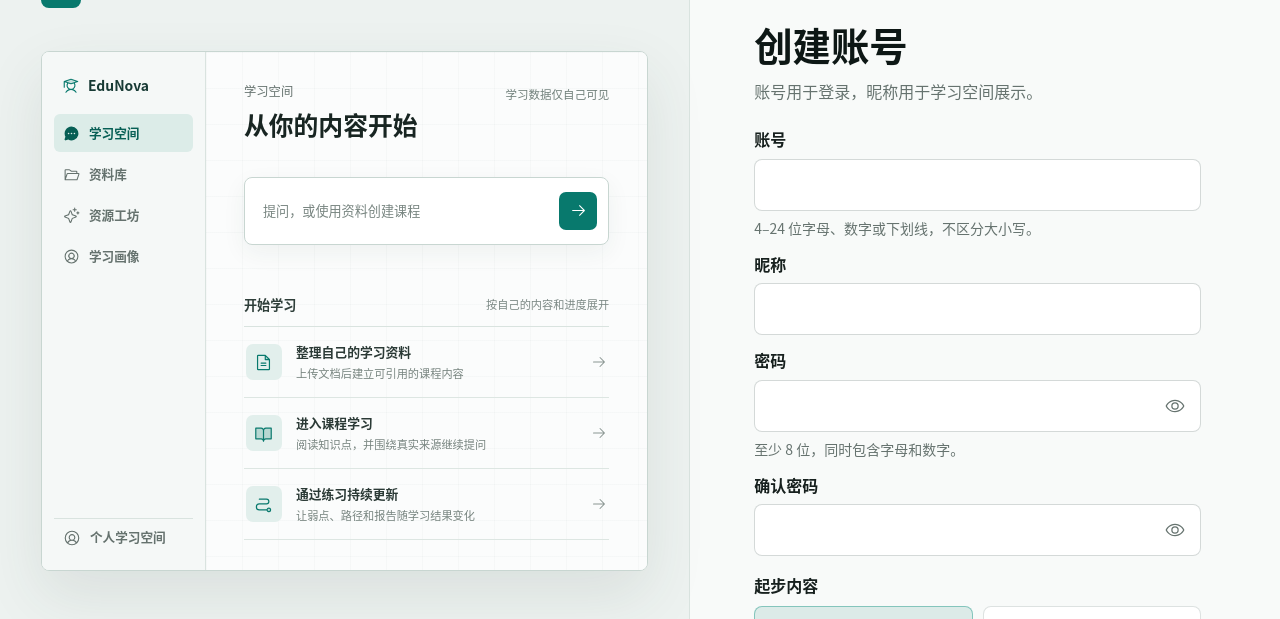
it: auth entry pages › returns to login when account creation succeeds but automatic login fails
Type "Created_01" into the field labelled "账号".
click(978, 185); type("Created_01")  # box [754,159,1201,211]
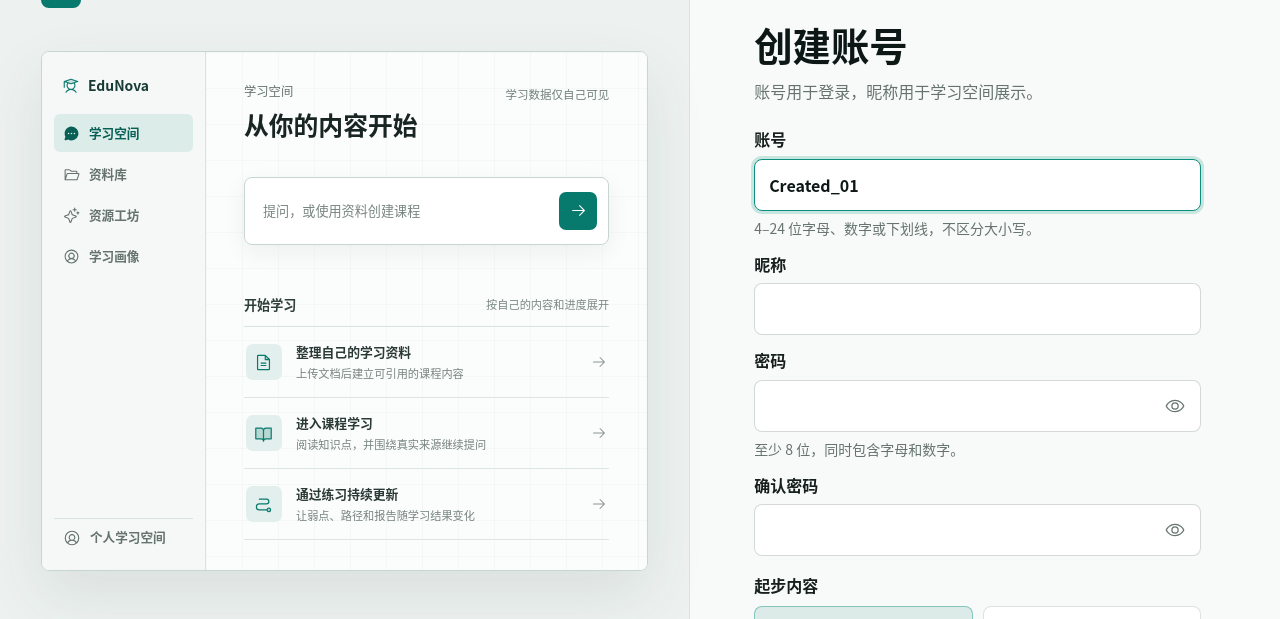
Type "已创建学生" into the field labelled "昵称".
click(978, 309); type("已创建学生")  # box [754,283,1201,335]
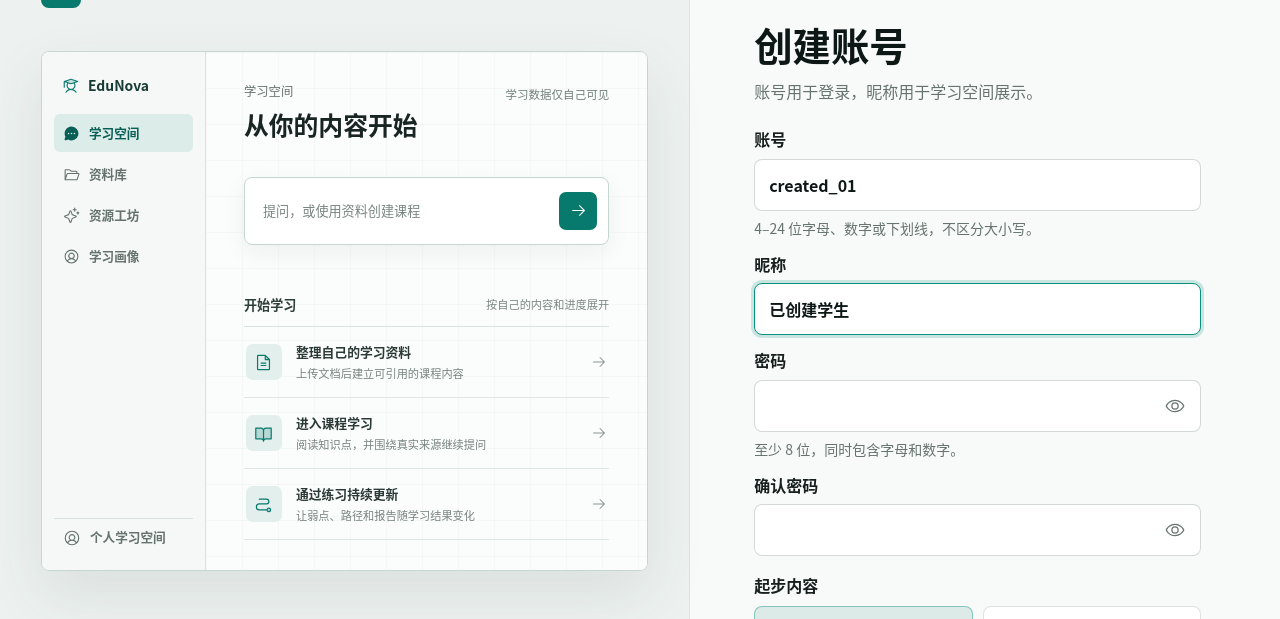
Type "Password123" into the password field labelled "密码".
click(978, 406); type("Password123")  # box [754,380,1201,432]
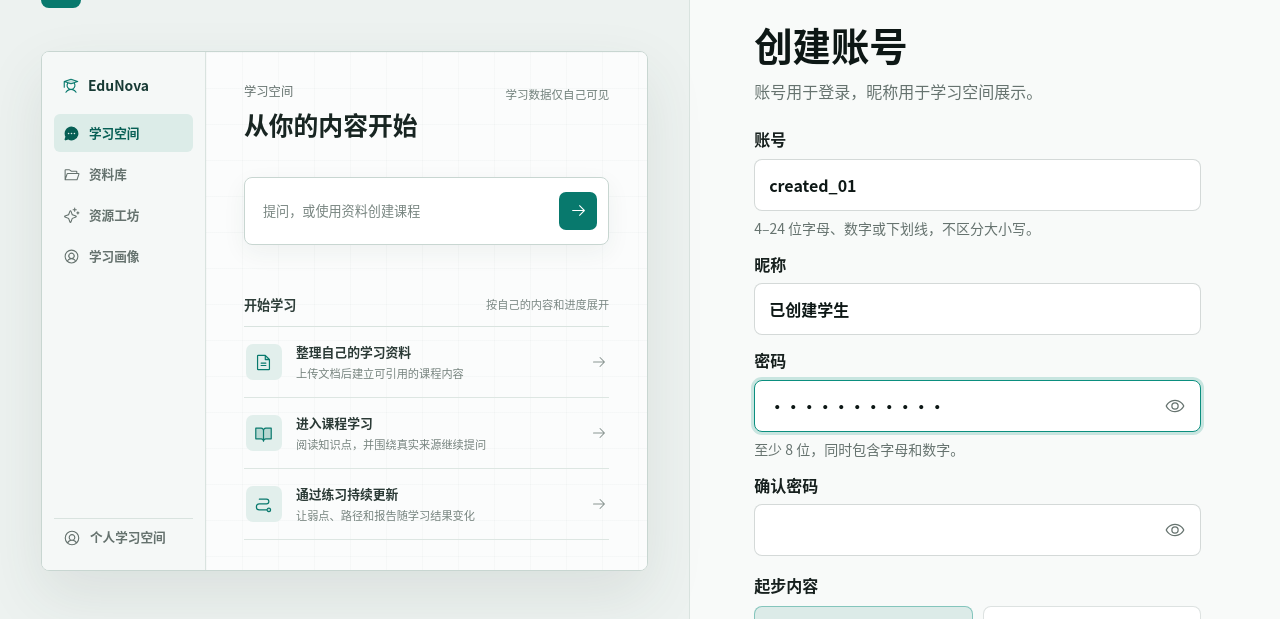
Type "Password123" into the password field labelled "确认密码".
click(978, 530); type("Password123")  # box [754,504,1201,556]
(page scrolled)
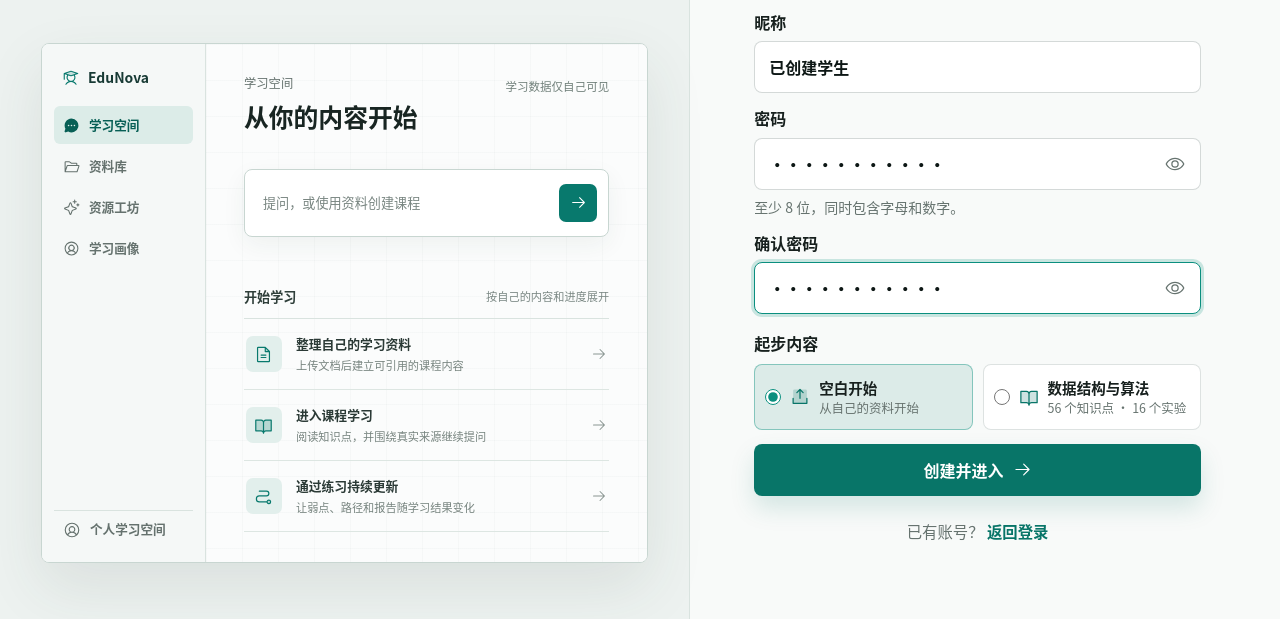
Click the button "创建并进入".
click(978, 470)  # box [754,444,1201,496]
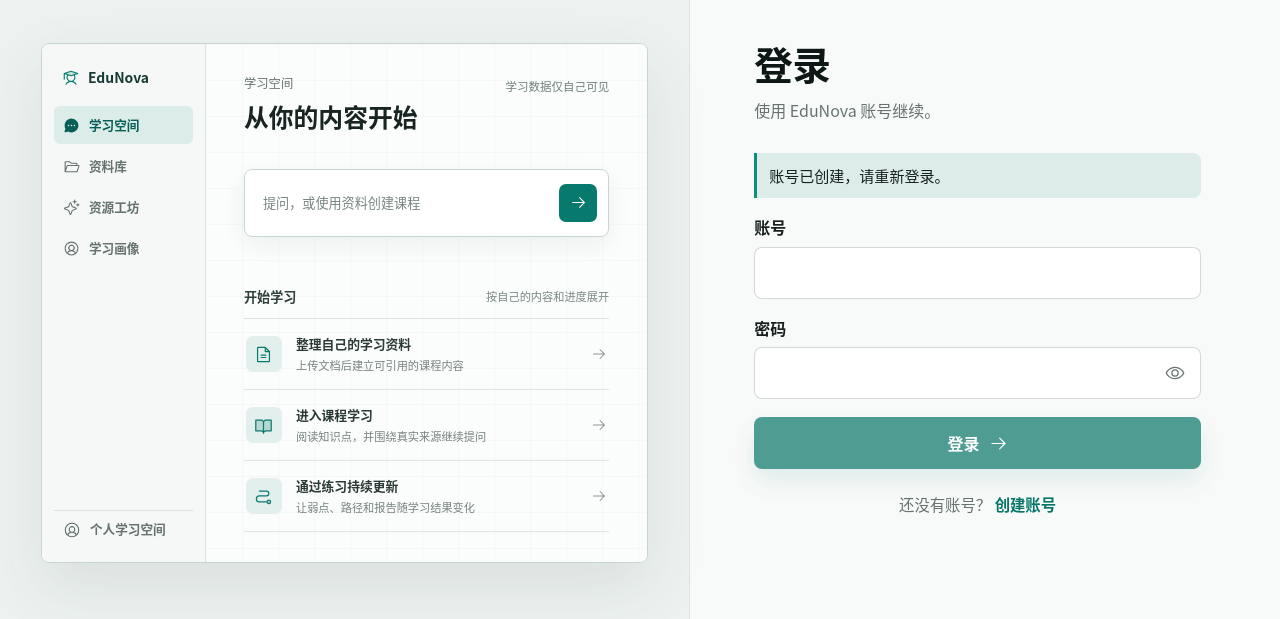
Expected: the heading "登录" is shown, [754,35,831,91]
Expected: the text "账号已创建，请重新登录。" is shown, [754,153,1201,198]
